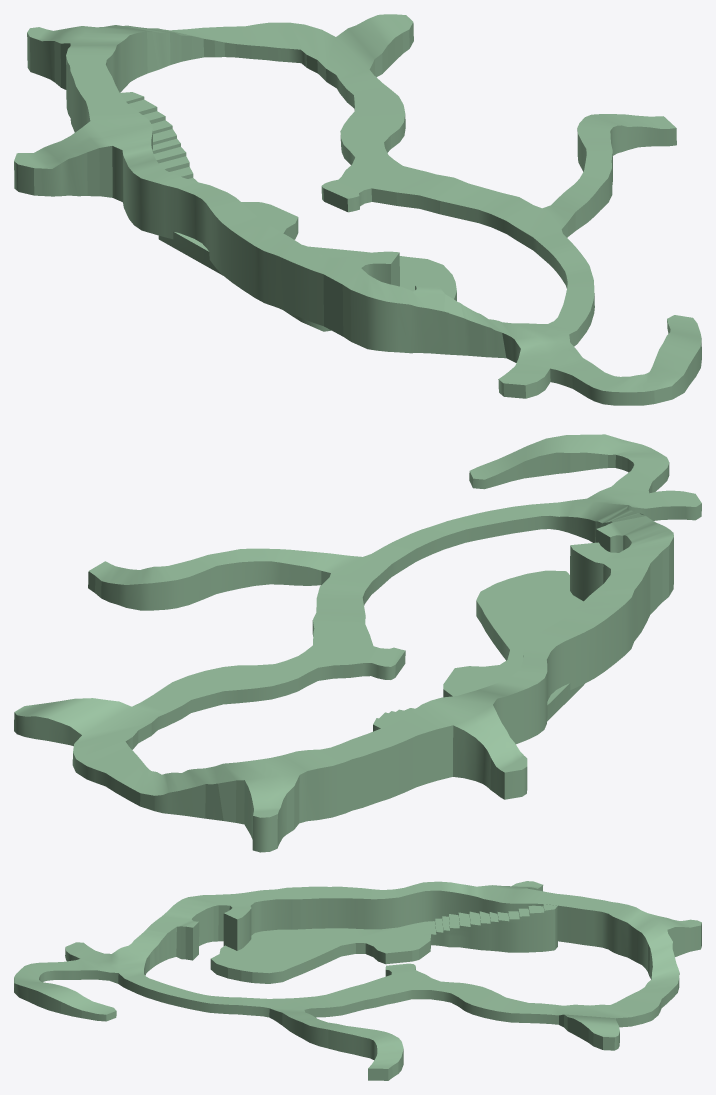
Rendered from V2 Terrain.fbx.
3 views of the same model, one above another, from view 1: azimuth 30°, elevation 25°; view 2: azimuth 150°, elevation 25°; view 3: azimuth 270°, elevation 25° (orthographic). The views are drawn at different scales.
Parts seen in each view (by area): view 1: Path2; view 2: Path2; view 3: Path2.
Part boxes in pixels (box(x1,y1,x2,y2)): Path2: box(14, 14, 701, 405); Path2: box(14, 434, 701, 852); Path2: box(14, 881, 701, 1080).
Size of the model in its own units: 1825 by 199 by 2930.
